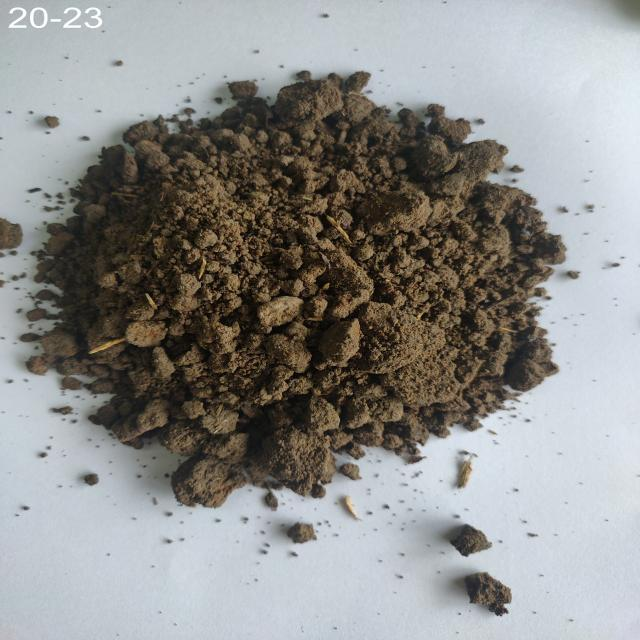soil: (160, 130, 496, 408)
